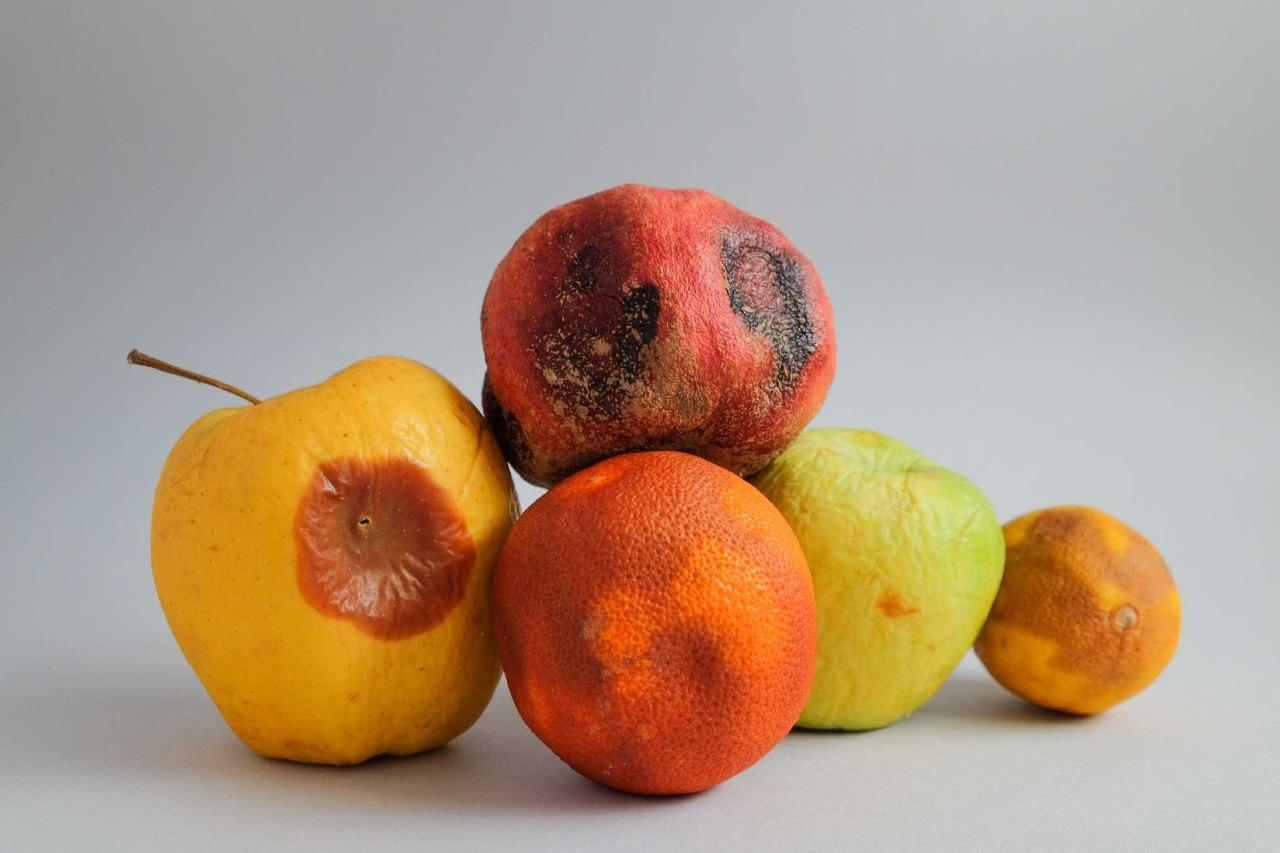Apple: (156, 361, 499, 762), (806, 426, 1008, 735)
